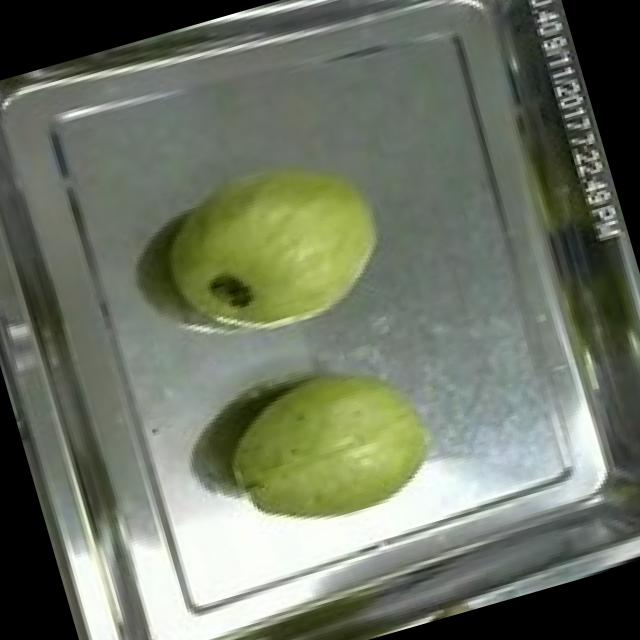Fruit: (136, 126, 411, 364), (202, 338, 453, 554)
